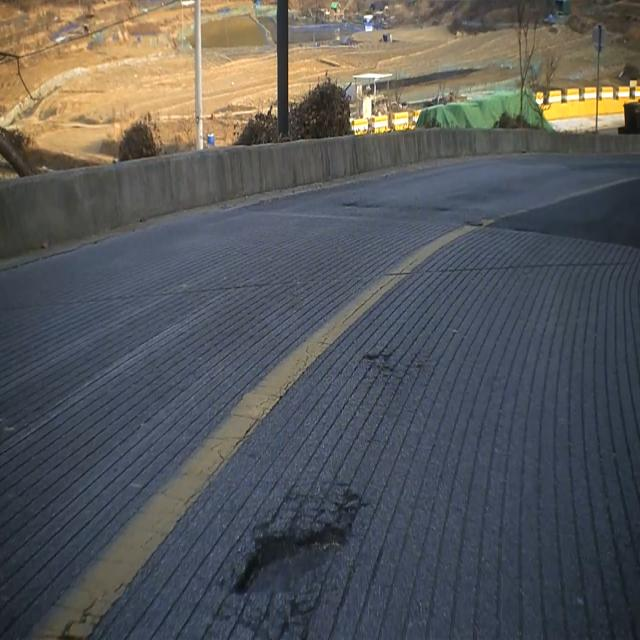Pothole: (222, 484, 369, 620)
